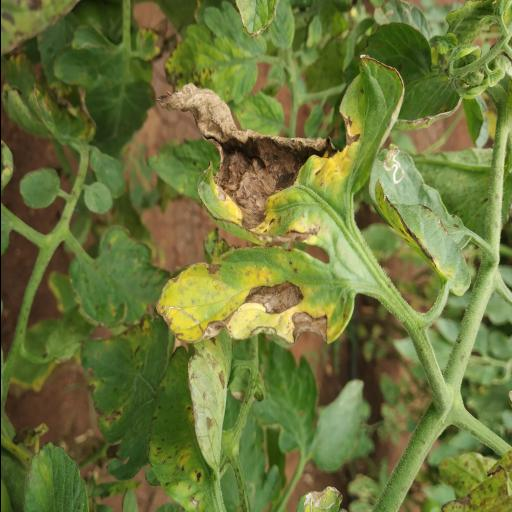disease_tomato: (151, 52, 402, 244), (152, 246, 354, 347)
